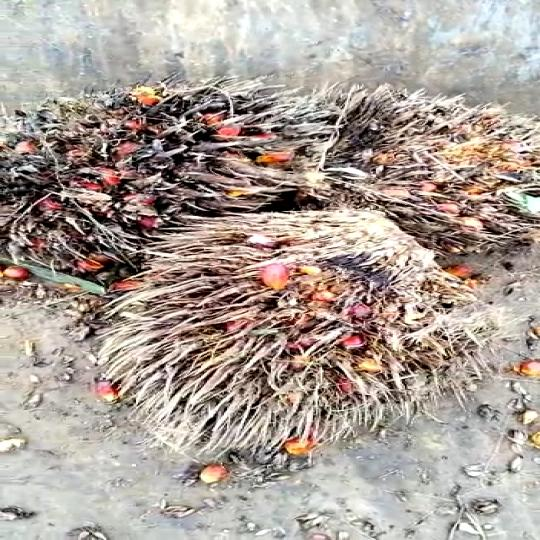terlalu masak: (100, 216, 490, 433), (0, 99, 282, 261), (270, 98, 540, 228)
